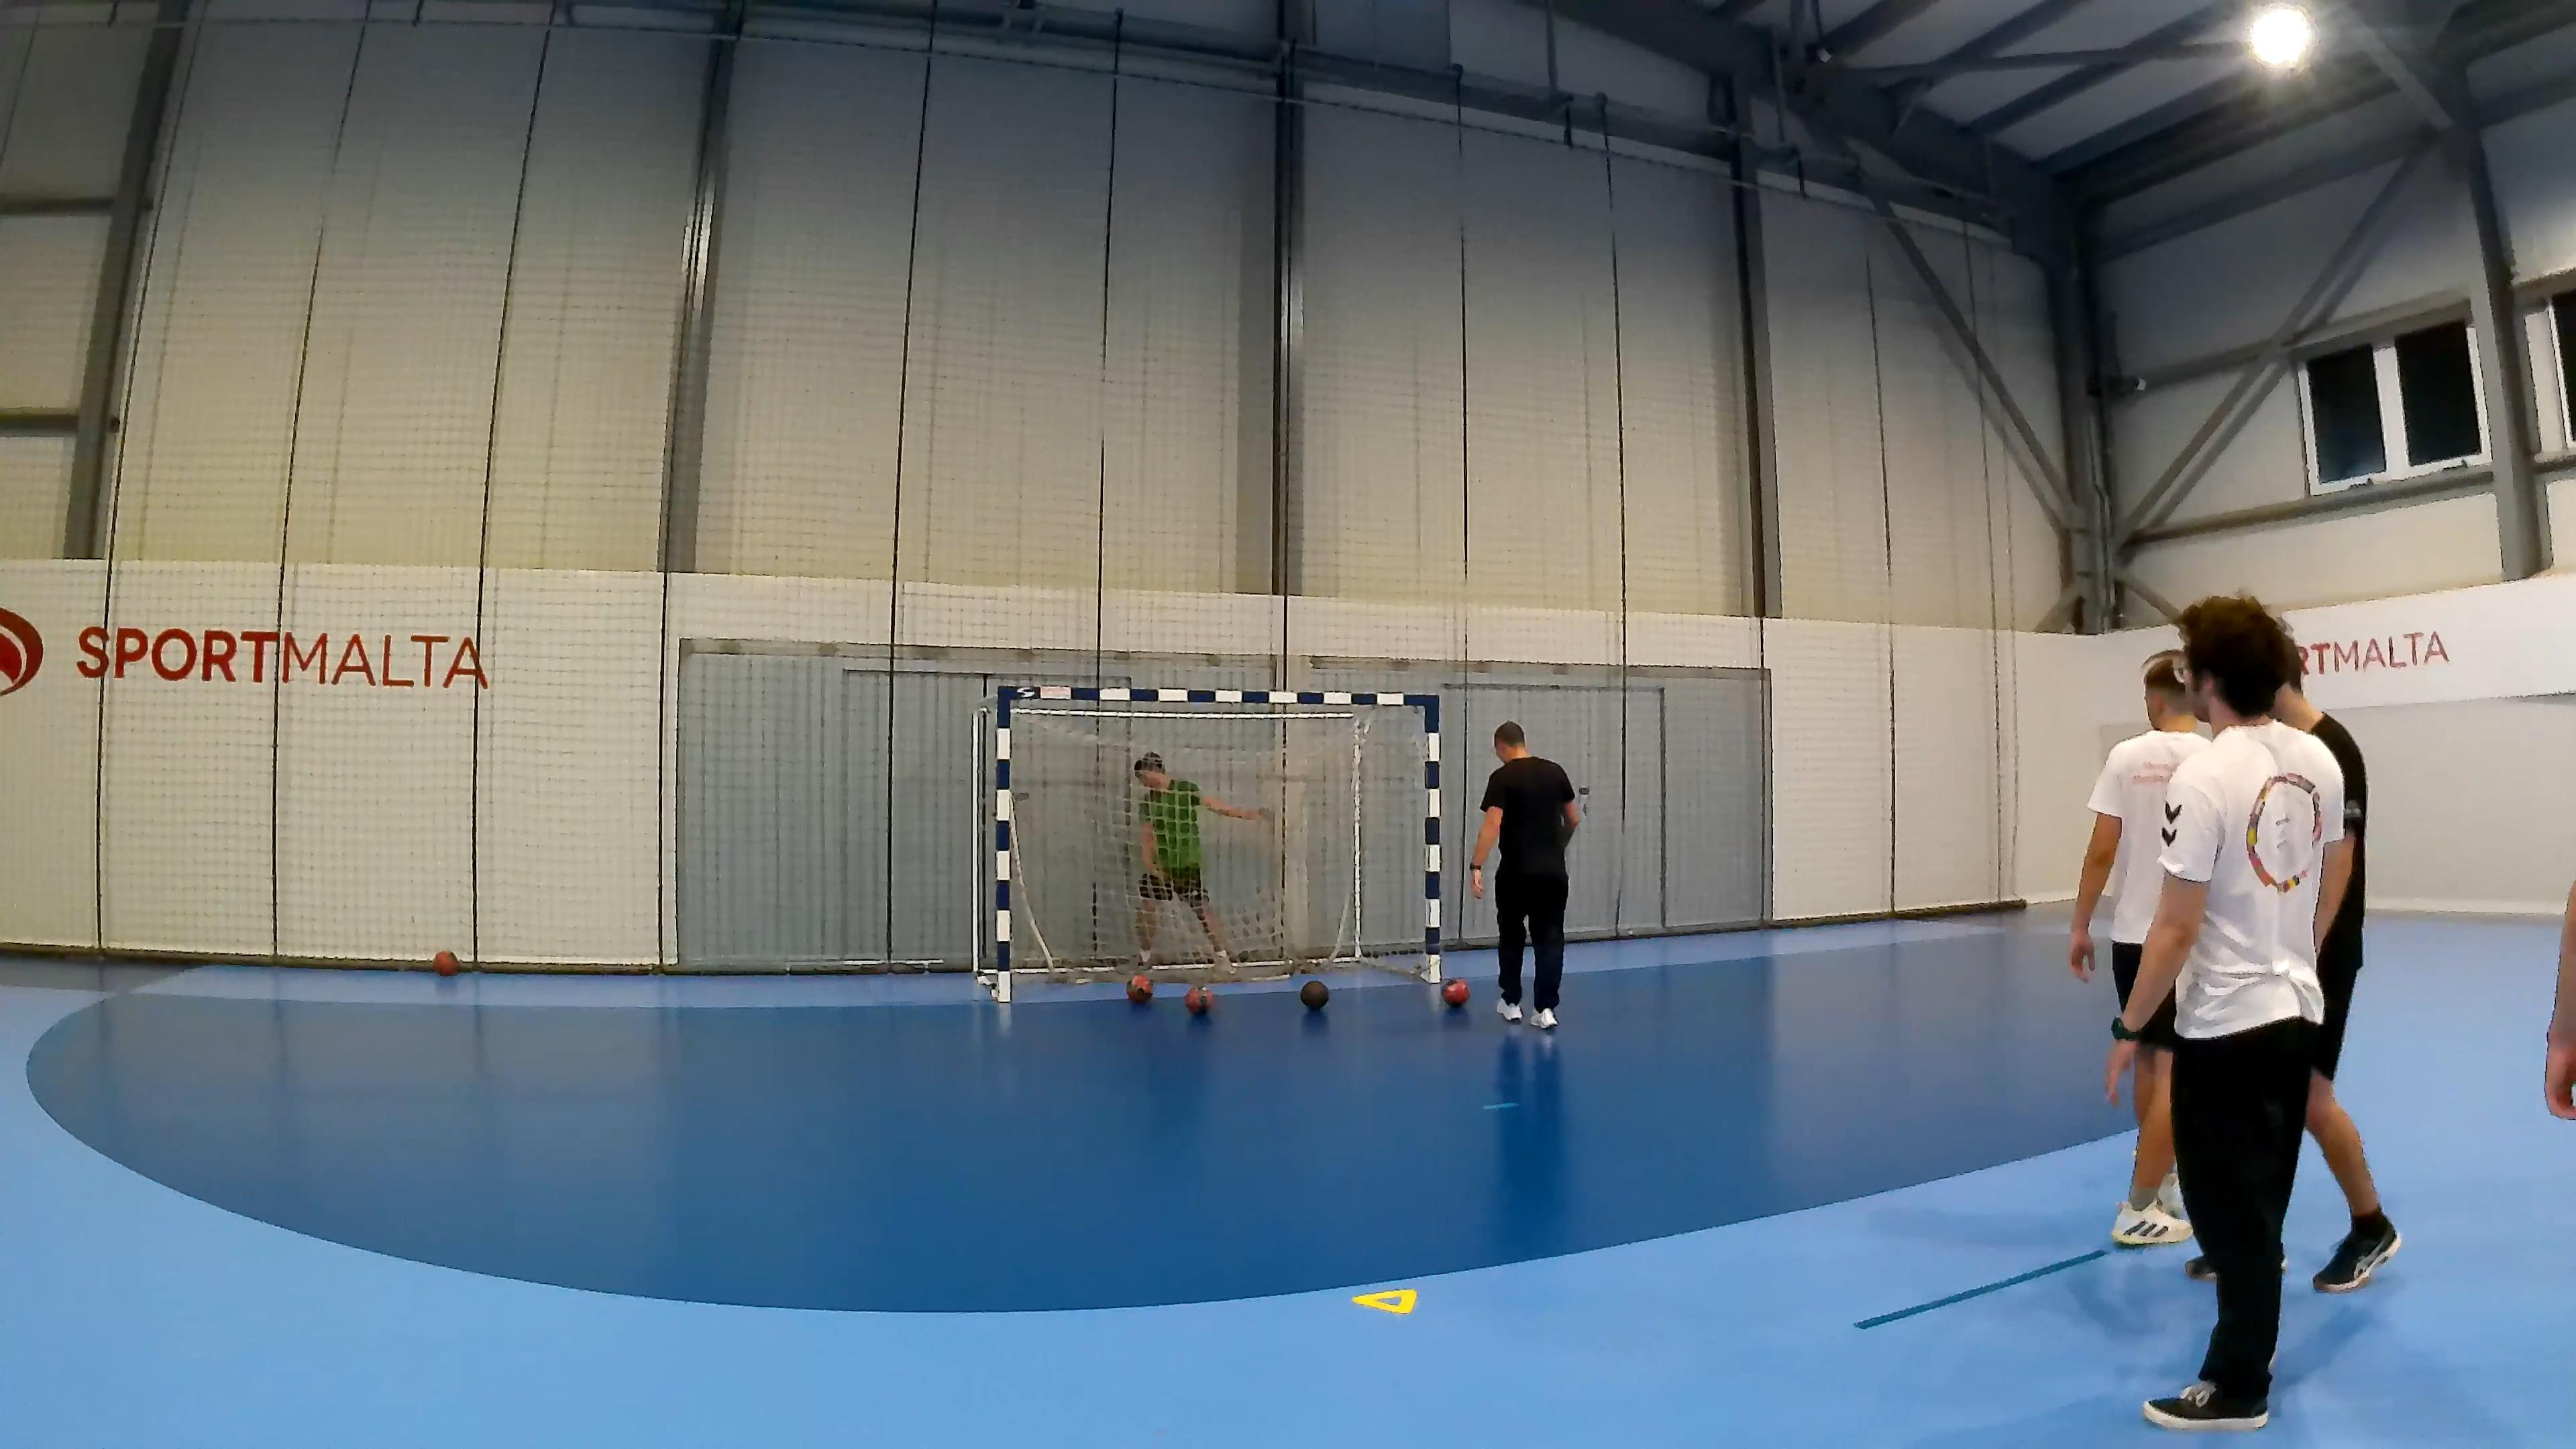handball: (1299, 978, 1327, 1010), (1125, 973, 1154, 1001), (1440, 978, 1468, 1005), (1184, 985, 1212, 1012), (433, 950, 458, 975)
